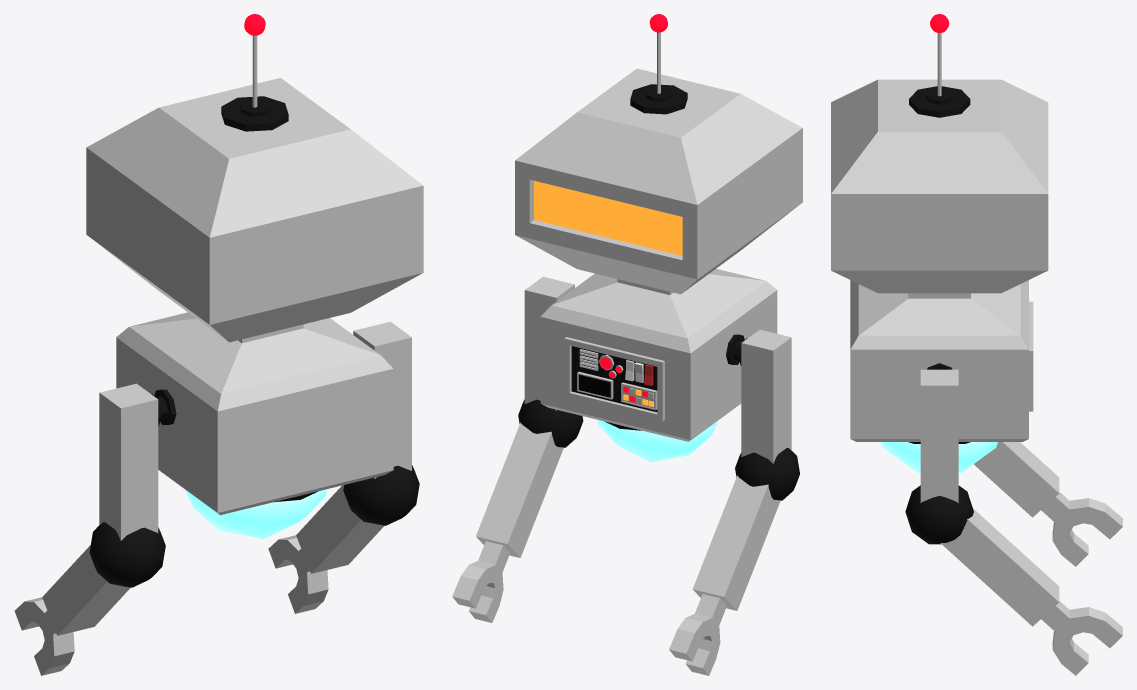
File: Pacman Robot.fbx
3 views of the same model, side by side, from view 1: azimuth 30°, elevation 25°; view 2: azimuth 150°, elevation 25°; view 3: azimuth 270°, elevation 25° (orthographic). The views are drawn at different scales.
Visible parts, largest first — view 1: Cube; view 2: Cube; view 3: Cube.
Boxes of the visible parts, x1=… form: Cube: x1=14, y1=14, x2=423, y2=675; Cube: x1=452, y1=14, x2=802, y2=675; Cube: x1=831, y1=14, x2=1122, y2=675.
Bounding box in the file's own units: 3104 × 3438 × 7066.
